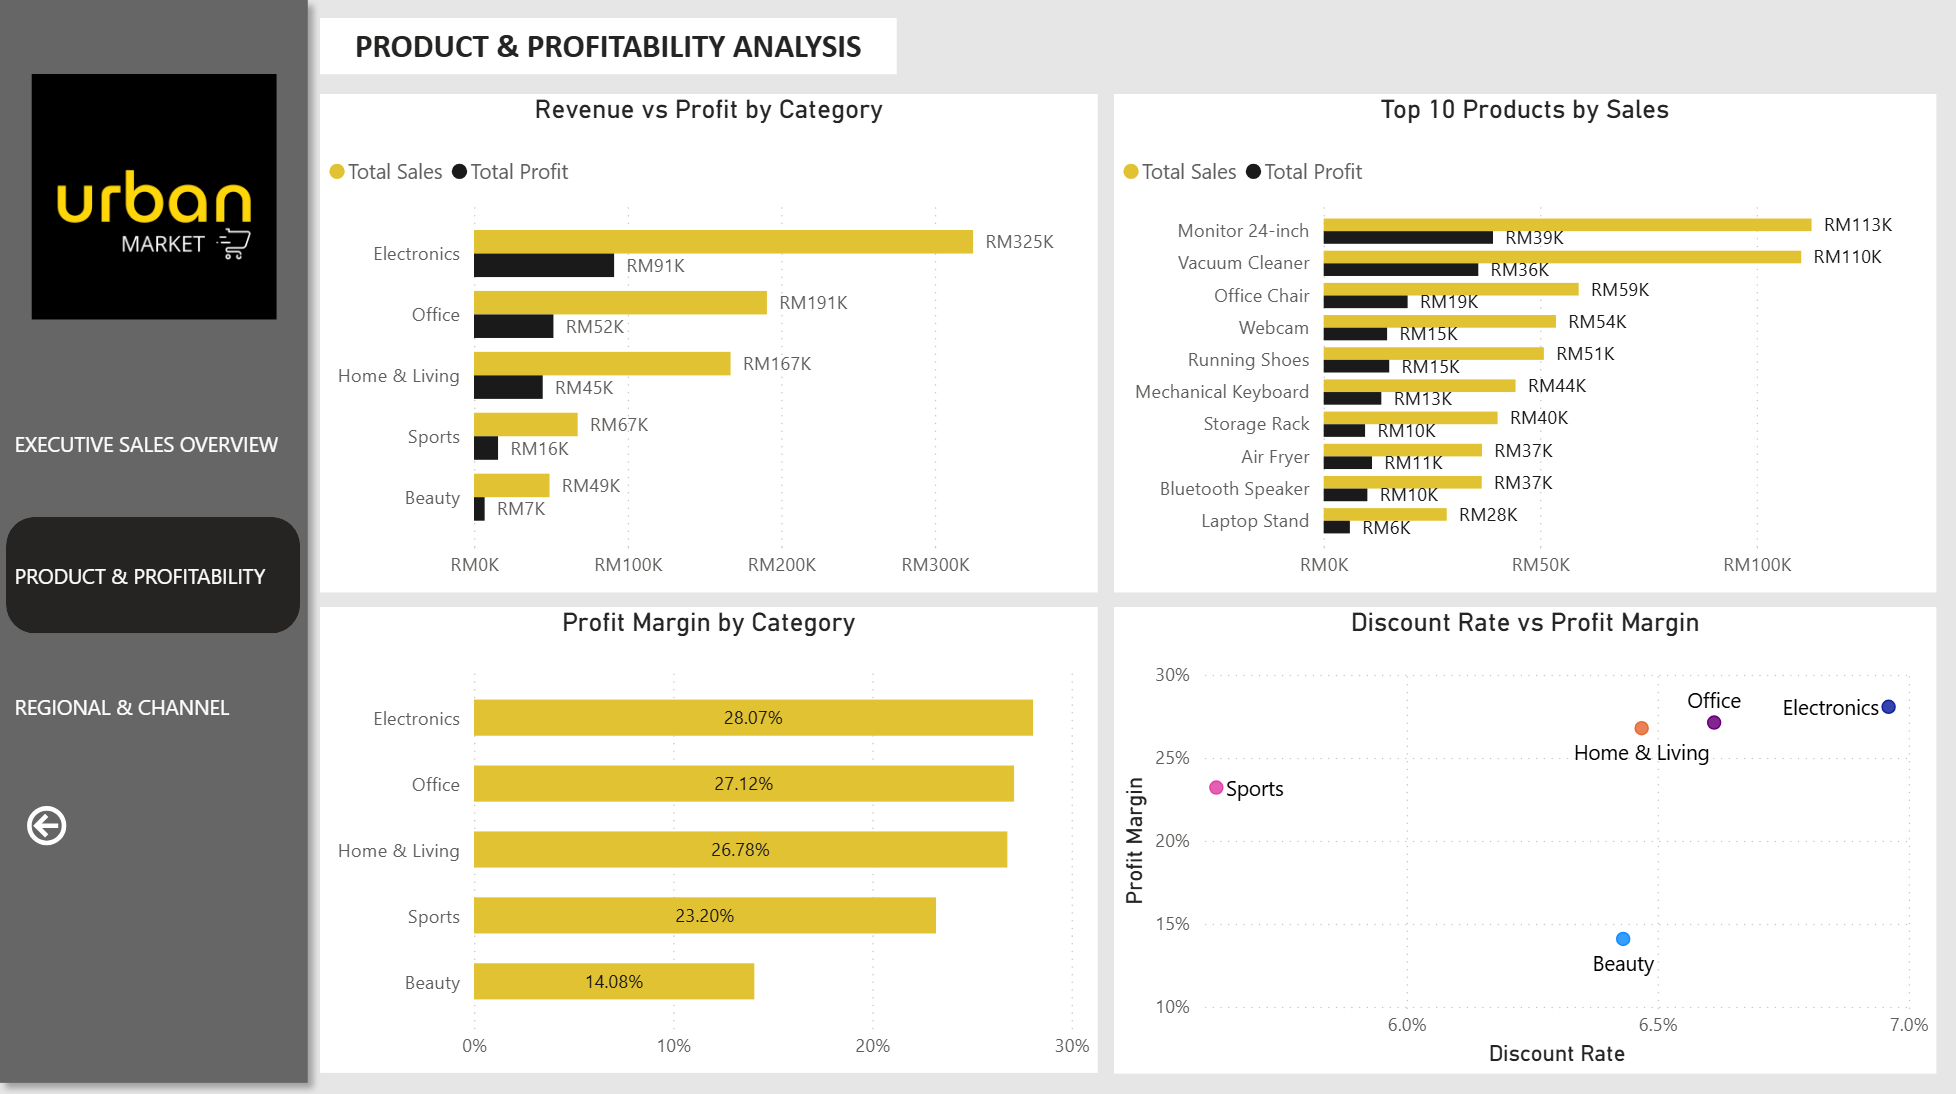

What the dashboard file says about the page in this screenshot:
{"tool":"powerbi","page":{"name":"PRODUCT & PROFITABILITY","canvas":[1280,720],"ordinal":1},"visuals":[{"type":"shape","box":[0,0,217.9,720.5],"z":0},{"type":"pageNavigator","box":[13.6,260,191.9,247.6],"z":1000},{"type":"actionButton","box":[22.3,527.4,37.1,34.7],"z":2000},{"type":"image","box":[18.8,57.7,182,159.4],"z":3000},{"type":"textbox","box":[217.3,21.4,374.3,36.4],"z":4000},{"type":"clusteredBarChart","title":"Revenue vs Profit by Category","fields":{"Category":["DimProduct.Category"],"Y":["FactSales.Total Sales","FactSales.Total Profit"]},"box":[217.3,70.3,505,322.8],"z":5000},{"type":"clusteredBarChart","fields":{"Category":["DimProduct.Category"],"Y":["FactSales.Profit Margin"]},"box":[217.3,402,505,302.7],"z":6000},{"type":"clusteredBarChart","title":"Top 10 Products by Sales","fields":{"Category":["DimProduct.Product"],"Y":["FactSales.Total Sales","FactSales.Total Profit"]},"box":[732.3,70.3,533.9,322.8],"z":7000},{"type":"scatterChart","title":"Discount Rate vs Profit Margin","fields":{"X":["FactSales.Discount Rate"],"Y":["FactSales.Profit Margin"],"Category":["DimProduct.Category"],"Series":["DimProduct.Category"]},"box":[732.3,402,534,303],"z":8000}]}

Visuals, with their boxes on the page's 1280x720 design canvas (x1, y1, x2, y2). These are canvas units, not pixel positions in the 1956x1094 screenshot, which may show the page scaled, cropped or inside an application window:
shape: 0,0,218,720
pageNavigator: 14,260,206,508
actionButton: 22,527,59,562
image: 19,58,201,217
textbox: 217,21,592,58
"Revenue vs Profit by Category" clusteredBarChart: 217,70,722,393
clusteredBarChart - DimProduct.Category x FactSales.Profit Margin: 217,402,722,705
"Top 10 Products by Sales" clusteredBarChart: 732,70,1266,393
"Discount Rate vs Profit Margin" scatterChart: 732,402,1266,705
